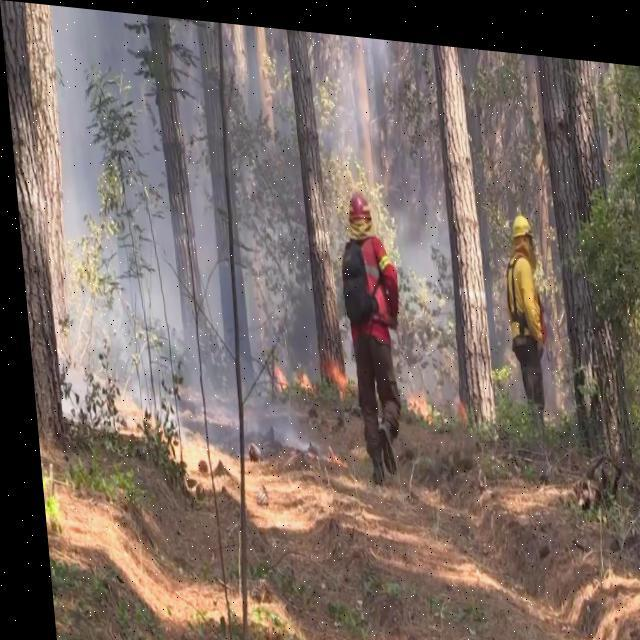Fire: (399, 382, 428, 416), (268, 356, 283, 386), (326, 361, 342, 384), (288, 368, 306, 384)
